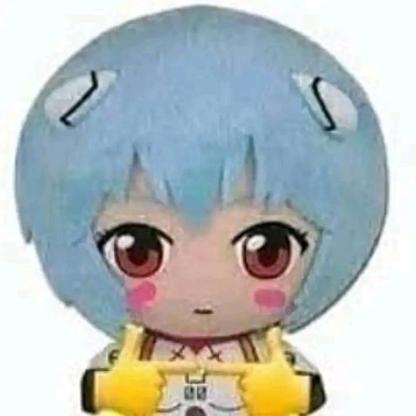rei-plush: (0, 0, 396, 342)
